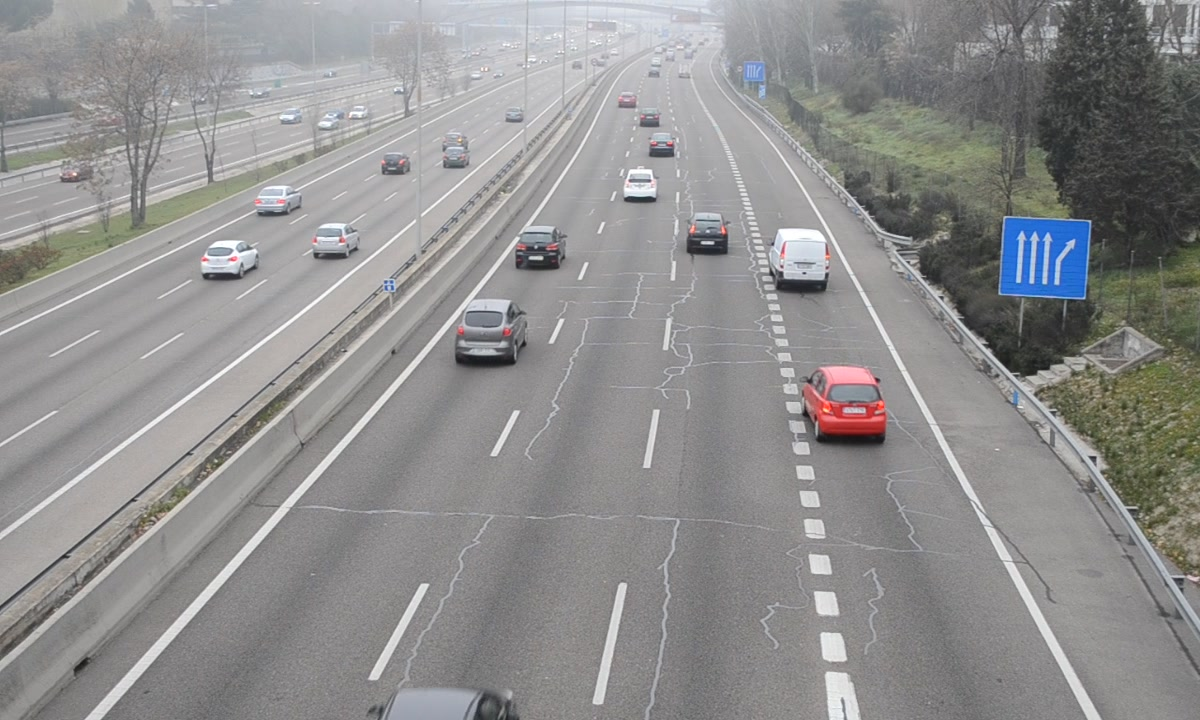car: (801, 366, 890, 436), (454, 301, 526, 359), (516, 226, 567, 270), (686, 212, 729, 256), (622, 167, 659, 204), (650, 132, 677, 154)
van: (772, 228, 828, 290)
